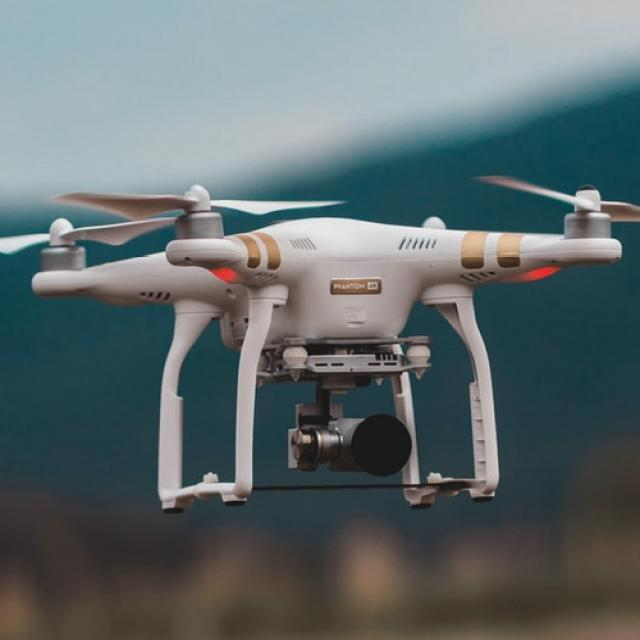drone: (0, 168, 640, 365)
